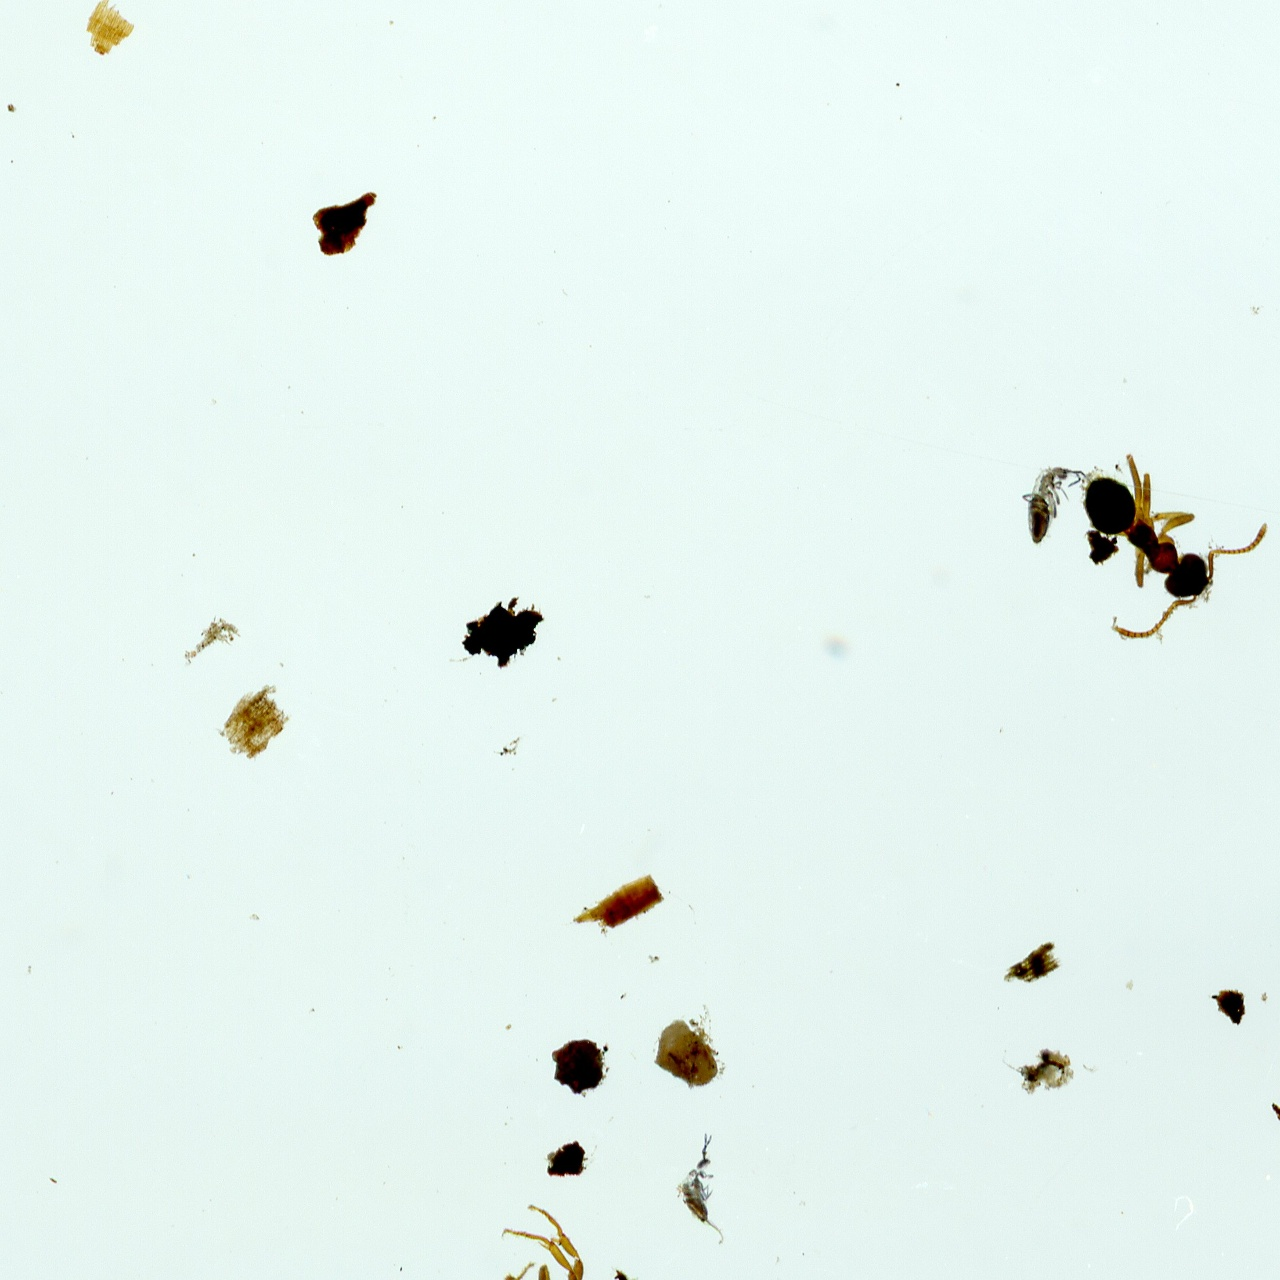arthropod: (1071, 448, 1268, 639), (478, 1199, 665, 1280), (669, 1126, 742, 1251), (1024, 454, 1076, 551)
